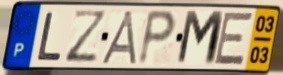A: (99, 9, 141, 66)
E: (212, 11, 255, 67)
L: (34, 11, 63, 63)
M: (174, 9, 227, 68)
P: (135, 8, 178, 68)
Z: (63, 8, 110, 65)
